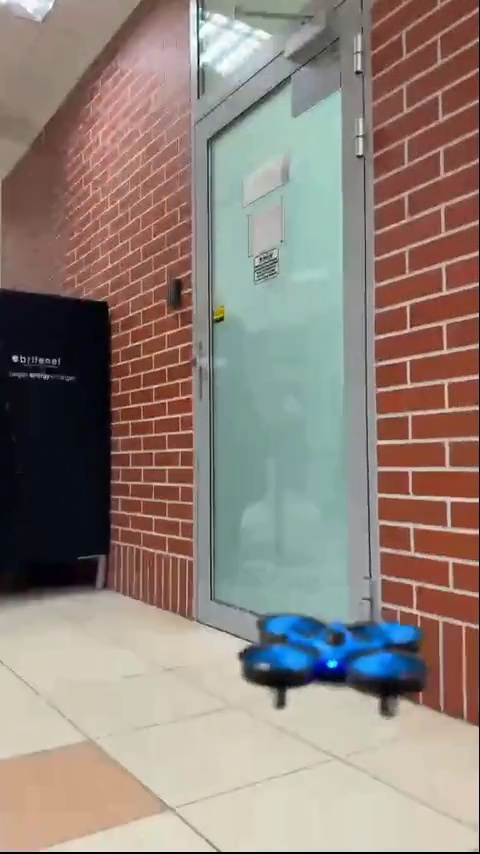drone: (239, 608, 427, 721)
